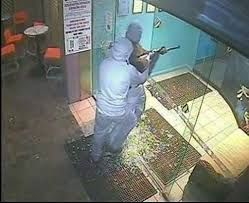gun: (134, 45, 183, 60)
